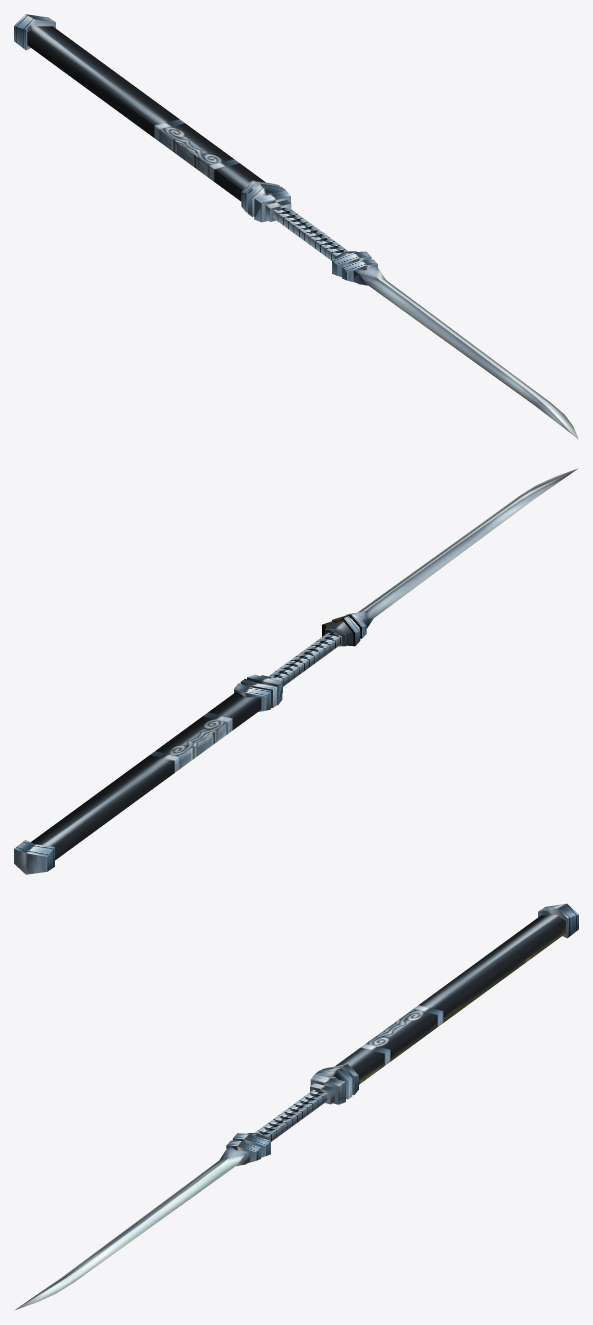
3 renders of one model, top to bottom at view 1: azimuth 30°, elevation 25°; view 2: azimuth 150°, elevation 25°; view 3: azimuth 330°, elevation 25°, orthographic. The views are drawn at different scales.
Parts seen in each view (by area): view 1: W903a; view 2: W903a; view 3: W903a.
Boxes of the visible parts, x1,y1,x2,y2 form: W903a: [14, 14, 578, 439]; W903a: [14, 468, 577, 874]; W903a: [15, 903, 578, 1309].
Bounding box in the file's own units: 1.76 × 1.38 × 49.6.
1 material, 1 textured.
